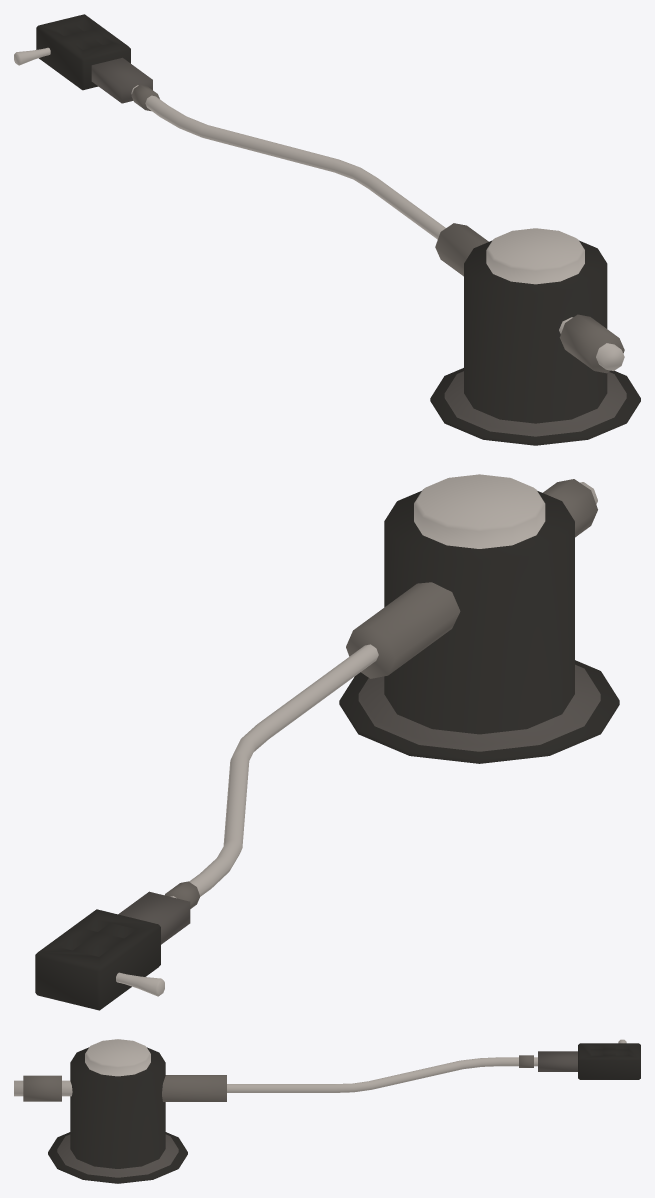
File: vinyl_record_player.glb
The picture shows the model from 3 angles, top to bottom: view 1: azimuth 30°, elevation 25°; view 2: azimuth 150°, elevation 25°; view 3: azimuth 270°, elevation 25°; orthographic projection. The views are drawn at different scales.
Parts seen in each view (by area): view 1: vinyl_record_player; view 2: vinyl_record_player; view 3: vinyl_record_player.
Boxes of the visible parts, x1=… form: vinyl_record_player: x1=14, y1=14, x2=640, y2=445; vinyl_record_player: x1=35, y1=474, x2=619, y2=1010; vinyl_record_player: x1=14, y1=1039, x2=640, y2=1183.
Size of the model in its own units: 11.19 by 7.08 by 39.46.
1 material, 1 textured.
